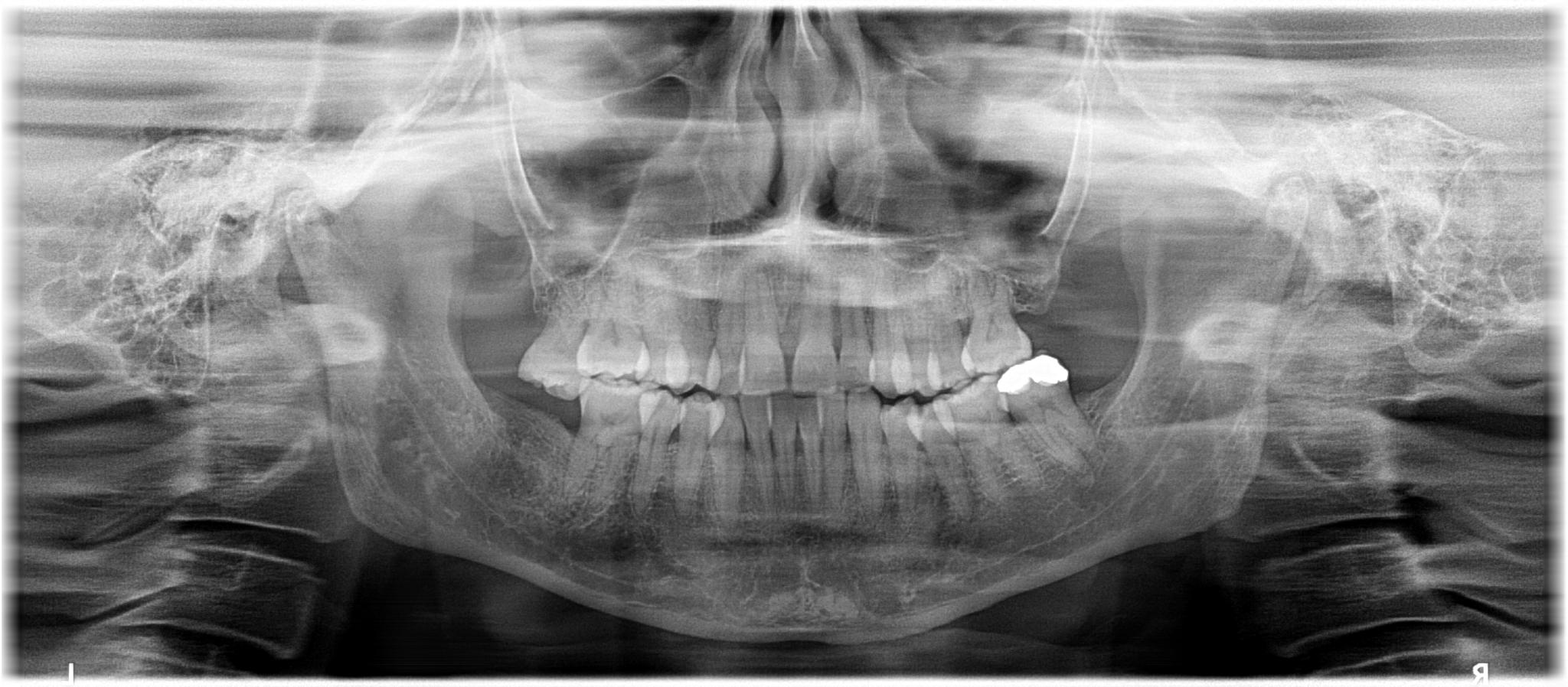Premolars: (282, 118, 818, 448)
